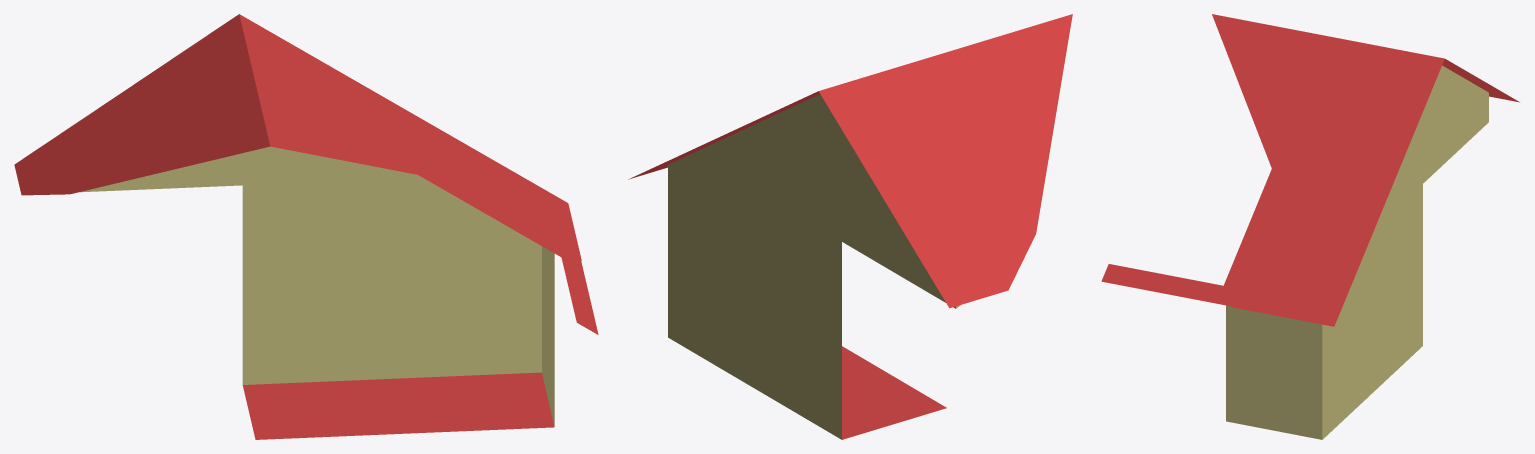
The picture shows the model from 3 angles, left to right: view 1: azimuth 30°, elevation 25°; view 2: azimuth 150°, elevation 25°; view 3: azimuth 270°, elevation 25°; orthographic projection. The views are drawn at different scales.
Bounding box in the file's own units: 18.31 × 17.59 × 13.49.
